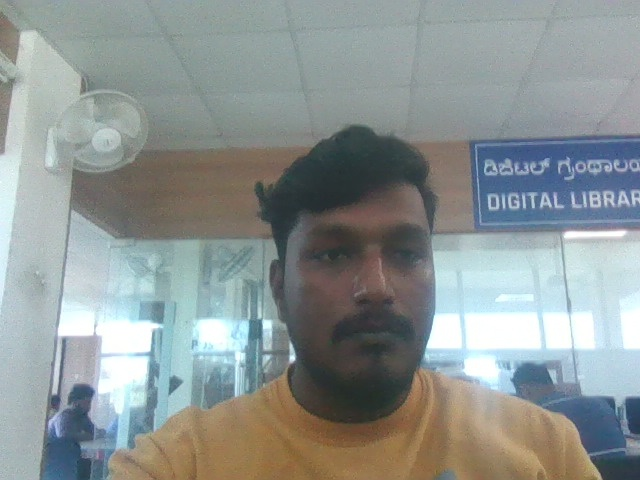real: (251, 105, 463, 405)
